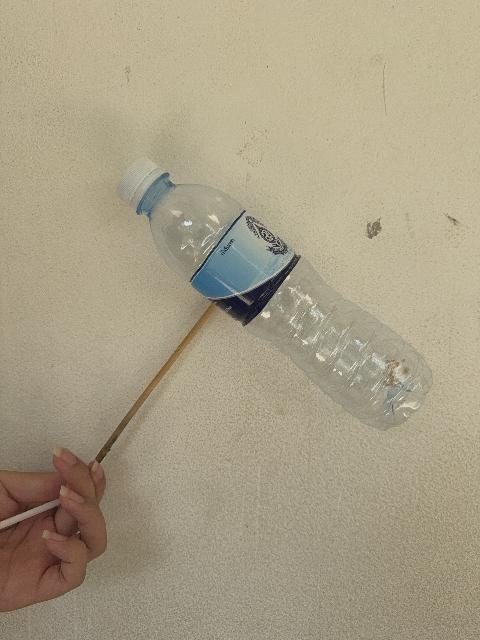bottle: (118, 159, 432, 429)
